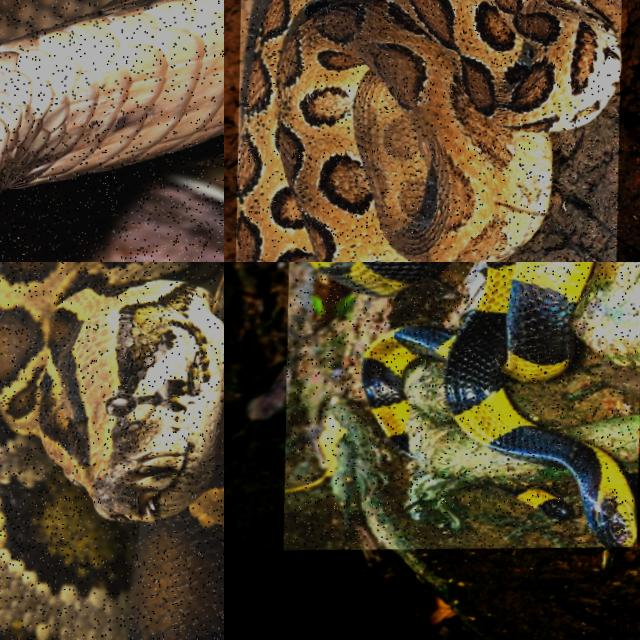Bungarus fasciatus: (363, 262, 637, 545)
Daboia siamensis: (238, 0, 620, 261)
Ophiophagus hannah: (0, 0, 223, 193)
Python bivittatus: (0, 262, 223, 639)
